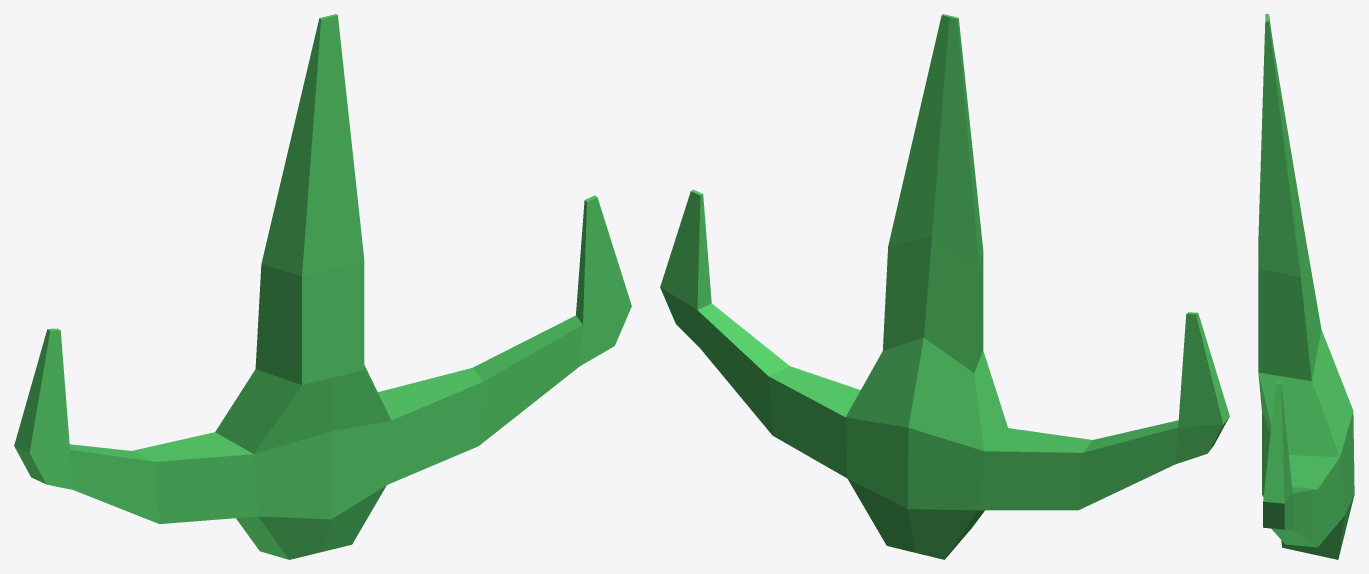
File: Ship.fbx
3 views of the same model, side by side, from view 1: azimuth 30°, elevation 25°; view 2: azimuth 150°, elevation 25°; view 3: azimuth 270°, elevation 25° (orthographic). The views are drawn at different scales.
Parts seen in each view (by area): view 1: Ship; view 2: Ship; view 3: Ship.
Part boxes in pixels (left/top/right/bottom): Ship: left=14, top=14, right=631, bottom=559; Ship: left=660, top=14, right=1229, bottom=559; Ship: left=1258, top=14, right=1354, bottom=559.
Size of the model in its own units: 12471 by 10816 by 1788.
